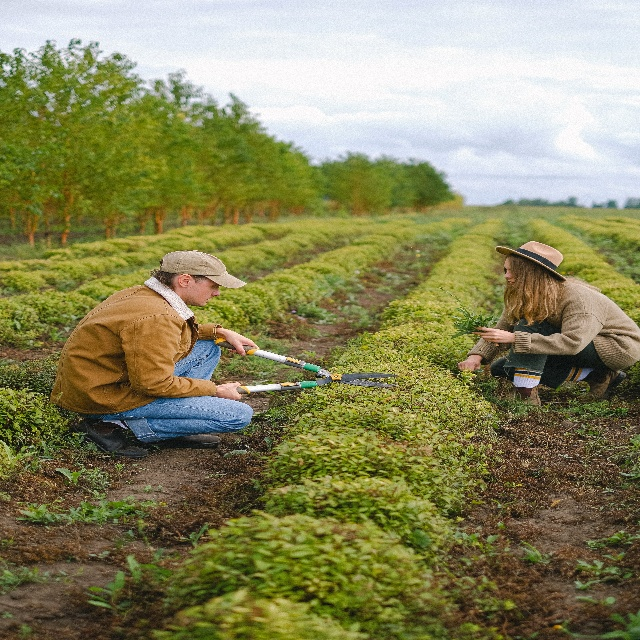Sin_guantes: (225, 326, 260, 358), (471, 323, 509, 344), (217, 379, 242, 402), (457, 353, 482, 374)
